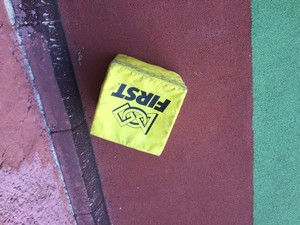cube: (86, 54, 190, 163)
